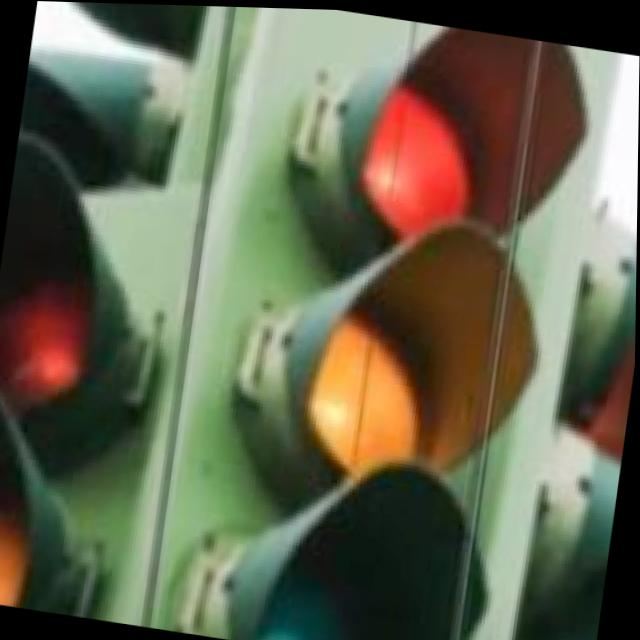red_light: (277, 13, 631, 267)
yellow_light: (261, 230, 570, 528)
